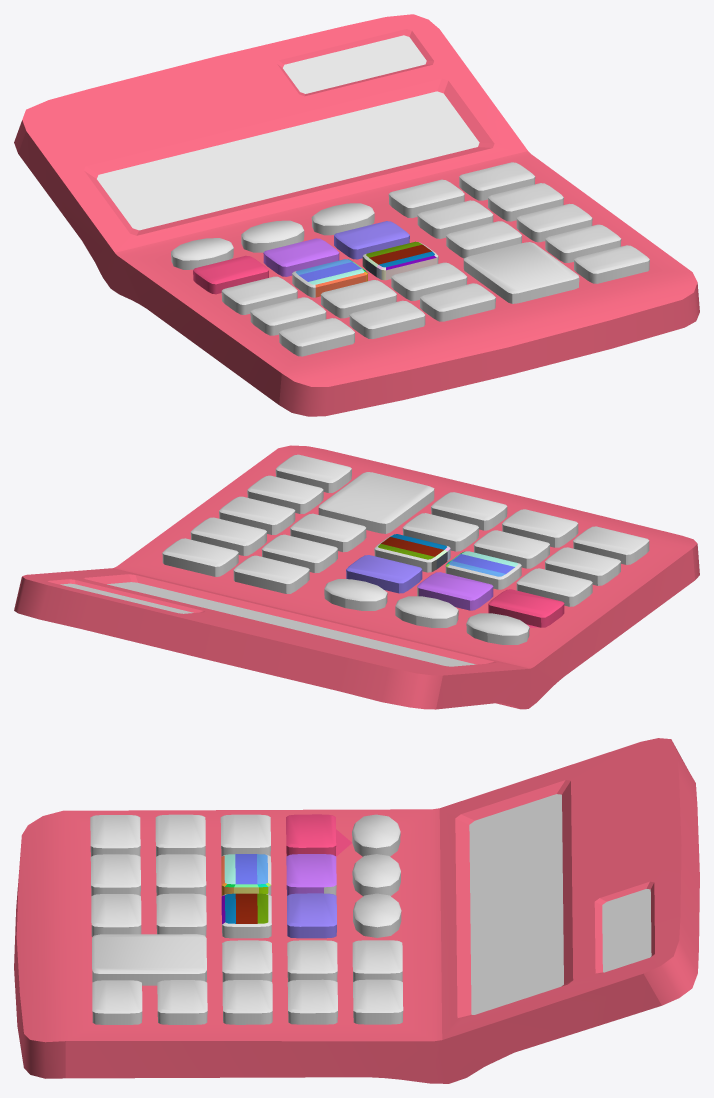
The model's file is 색깔어케바꿈.fbx.
3 views of the same model, one above another, from view 1: azimuth 30°, elevation 25°; view 2: azimuth 150°, elevation 25°; view 3: azimuth 270°, elevation 25° (orthographic). The views are drawn at different scales.
Parts seen in each view (by area): view 1: calculator; view 2: calculator; view 3: calculator.
Boxes of the visible parts, bbox=[...] form: calculator: bbox=[14, 14, 699, 416]; calculator: bbox=[14, 445, 699, 709]; calculator: bbox=[14, 738, 699, 1083].
Size of the model in its own units: 422 by 103 by 522.
